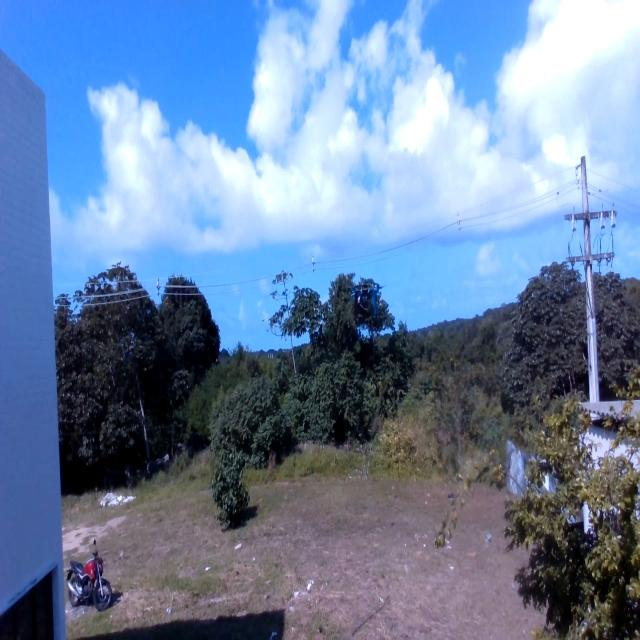-uav-: (343, 272, 390, 331)
